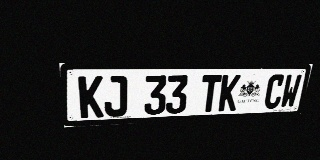3: (165, 75, 189, 114), (144, 75, 167, 115)
C: (263, 74, 286, 109)
J: (104, 76, 127, 117)
K: (78, 76, 104, 118), (218, 75, 241, 111)
T: (199, 75, 222, 112)
W: (279, 74, 302, 108)
